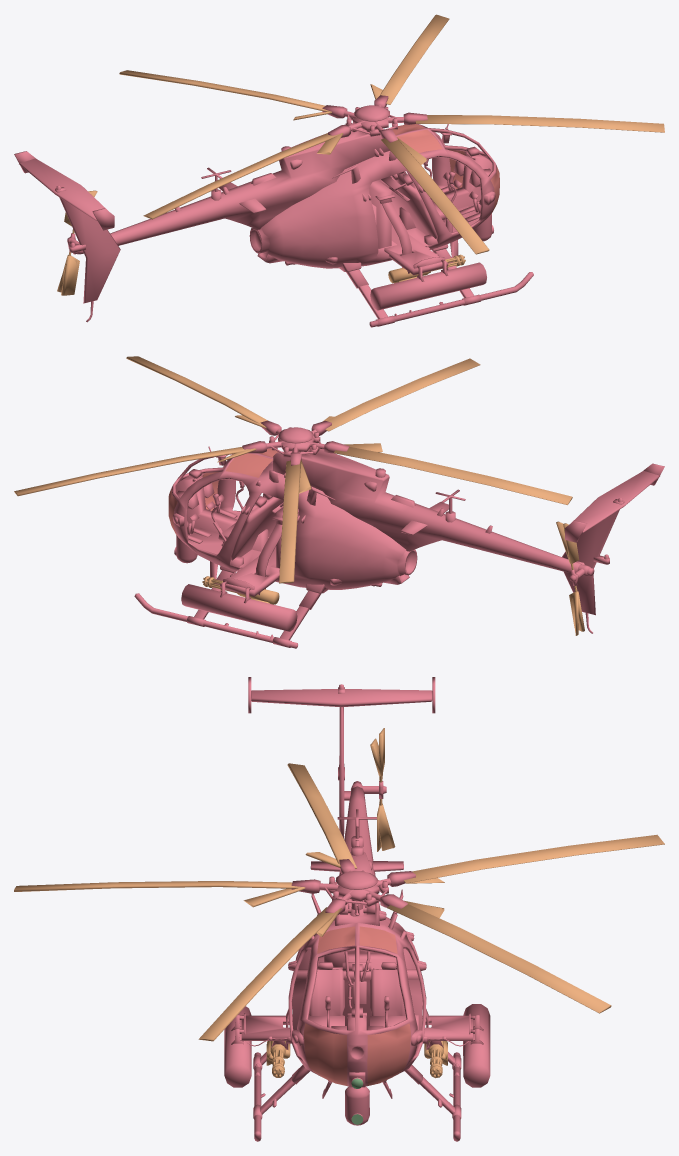
3 renders of one model, top to bottom at view 1: azimuth 30°, elevation 25°; view 2: azimuth 150°, elevation 25°; view 3: azimuth 270°, elevation 25°, orthographic. The views are drawn at different scales.
Parts seen in each view (by area): view 1: ah-6_prop_BODY.smd, ah-6_prop_Static.smd, ah-6_prop_Broken.smd; view 2: ah-6_prop_BODY.smd, ah-6_prop_Static.smd, ah-6_prop_Broken.smd; view 3: ah-6_prop_BODY.smd, ah-6_prop_Static.smd, ah-6_prop_Broken.smd, ah-6_prop_Light.smd.
Boxes of the visible parts, x1=… form: ah-6_prop_BODY.smd: x1=14, y1=124, x2=533, y2=327; ah-6_prop_Static.smd: x1=61, y1=14, x2=664, y2=295; ah-6_prop_Broken.smd: x1=57, y1=84, x2=461, y2=292; ah-6_prop_BODY.smd: x1=134, y1=446, x2=664, y2=648; ah-6_prop_Static.smd: x1=14, y1=356, x2=584, y2=631; ah-6_prop_Broken.smd: x1=217, y1=415, x2=578, y2=635; ah-6_prop_BODY.smd: x1=224, y1=677, x2=490, y2=1141; ah-6_prop_Static.smd: x1=14, y1=728, x2=664, y2=1041; ah-6_prop_Broken.smd: x1=243, y1=738, x2=444, y2=936; ah-6_prop_Light.smd: x1=345, y1=1086, x2=369, y2=1125.
Bounding box in the file's own units: 6.89 × 2.22 × 5.93.
